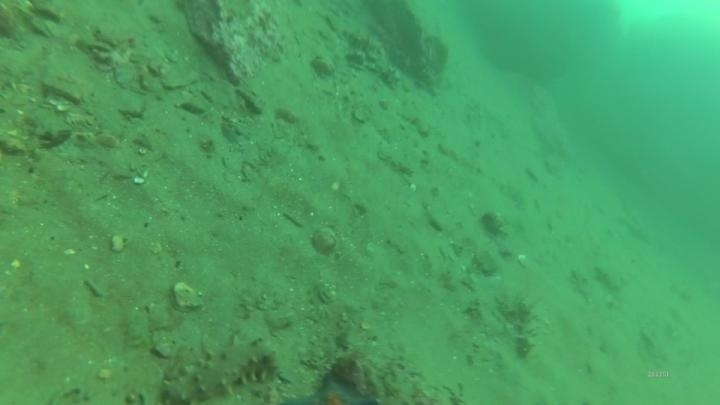holothurian: (160, 335, 282, 404)
starfish: (308, 371, 377, 403)
